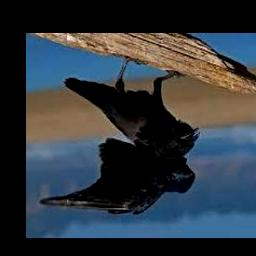Crow: (40, 55, 200, 216)
